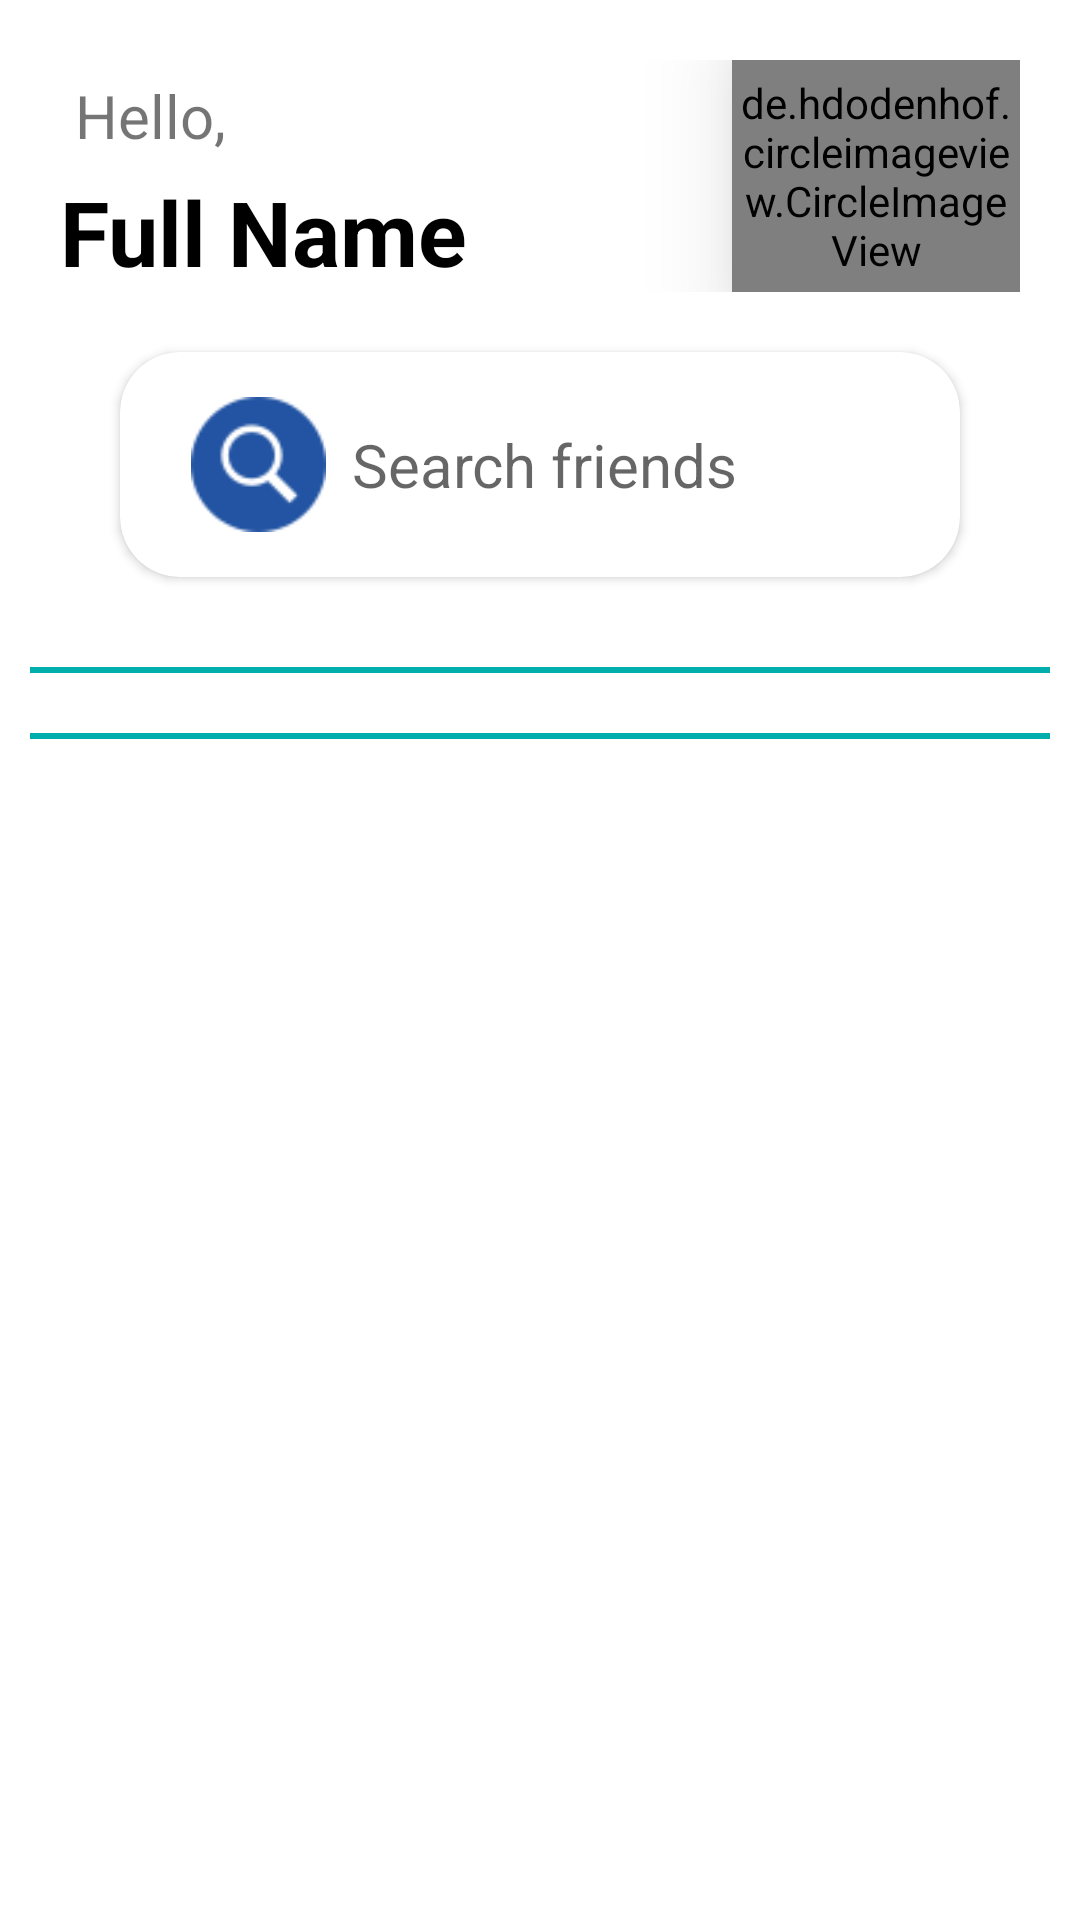

Screen size 1080w x 1920h. Icon name, then its center in pixels as (x,y):
search home: (258,464)
